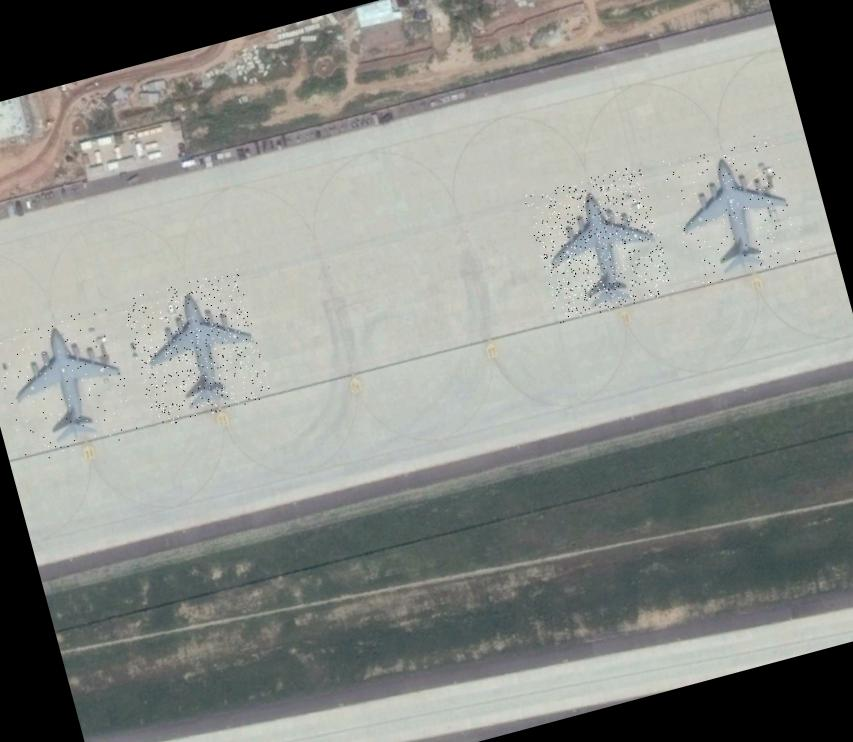A3: (120, 268, 272, 428), (656, 130, 808, 290), (523, 164, 674, 324), (0, 305, 140, 465)
